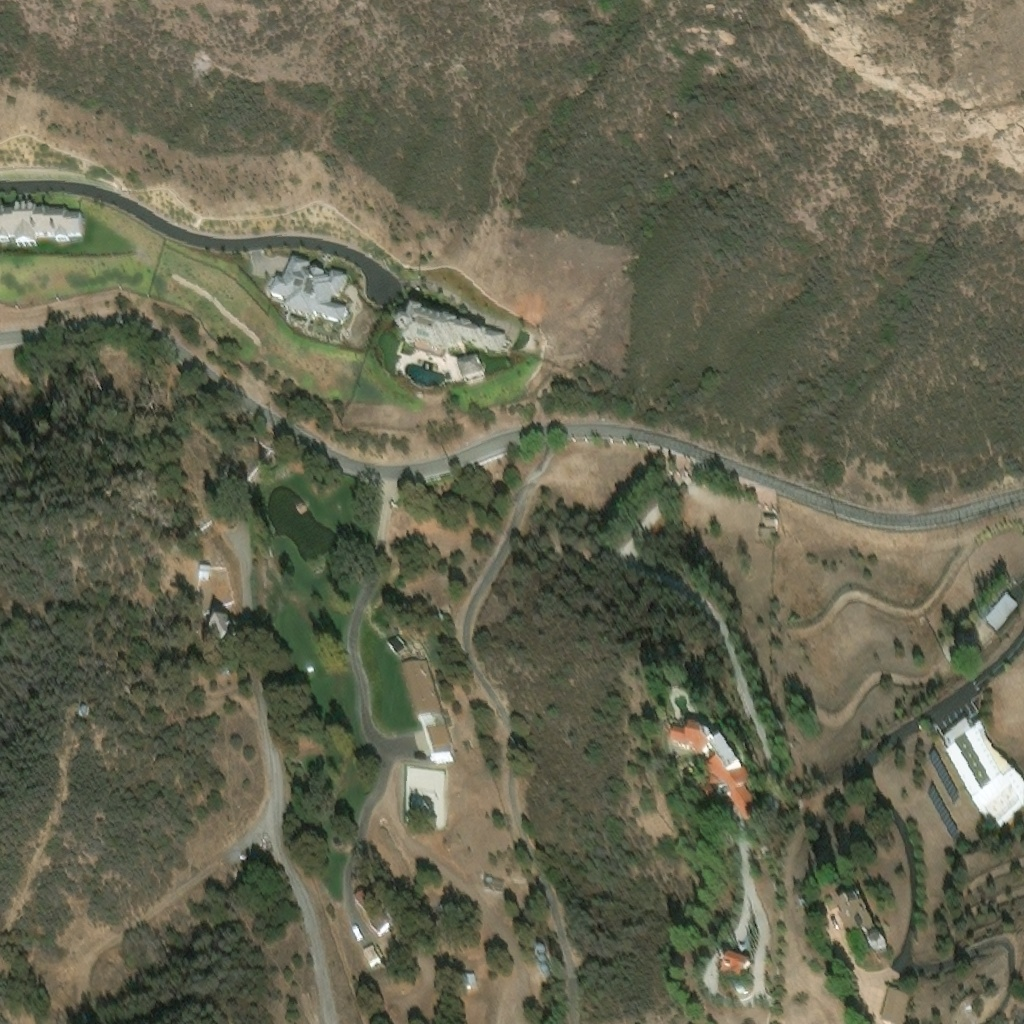0 no-damage: (937, 711, 1023, 809), (667, 725, 757, 815), (397, 308, 512, 364), (269, 256, 349, 331), (396, 653, 451, 754), (0, 202, 83, 247), (837, 897, 883, 946), (352, 882, 390, 927), (981, 590, 1018, 626), (876, 980, 905, 1019), (203, 612, 236, 643), (720, 949, 749, 979), (457, 354, 485, 381), (436, 889, 461, 910), (385, 631, 406, 653), (754, 509, 774, 531), (360, 937, 378, 958), (196, 560, 210, 575), (480, 866, 497, 877), (461, 966, 473, 980), (79, 713, 90, 722), (532, 935, 542, 944), (533, 946, 543, 953), (535, 954, 543, 961)
4 un-classified: (798, 897, 806, 906)
